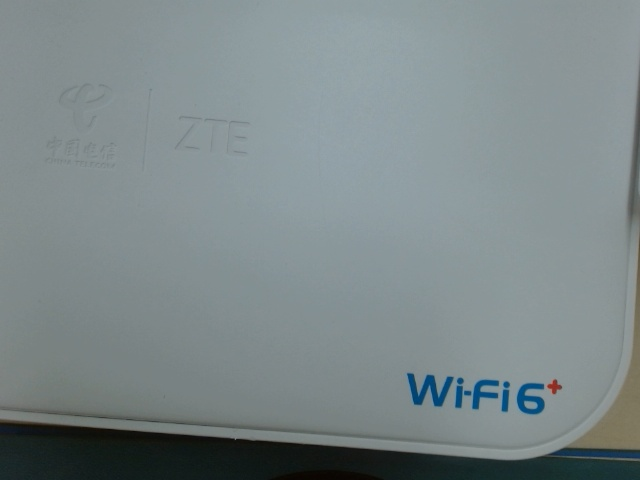AJ_ZTEWIFI6Plus: (402, 364, 569, 420)
